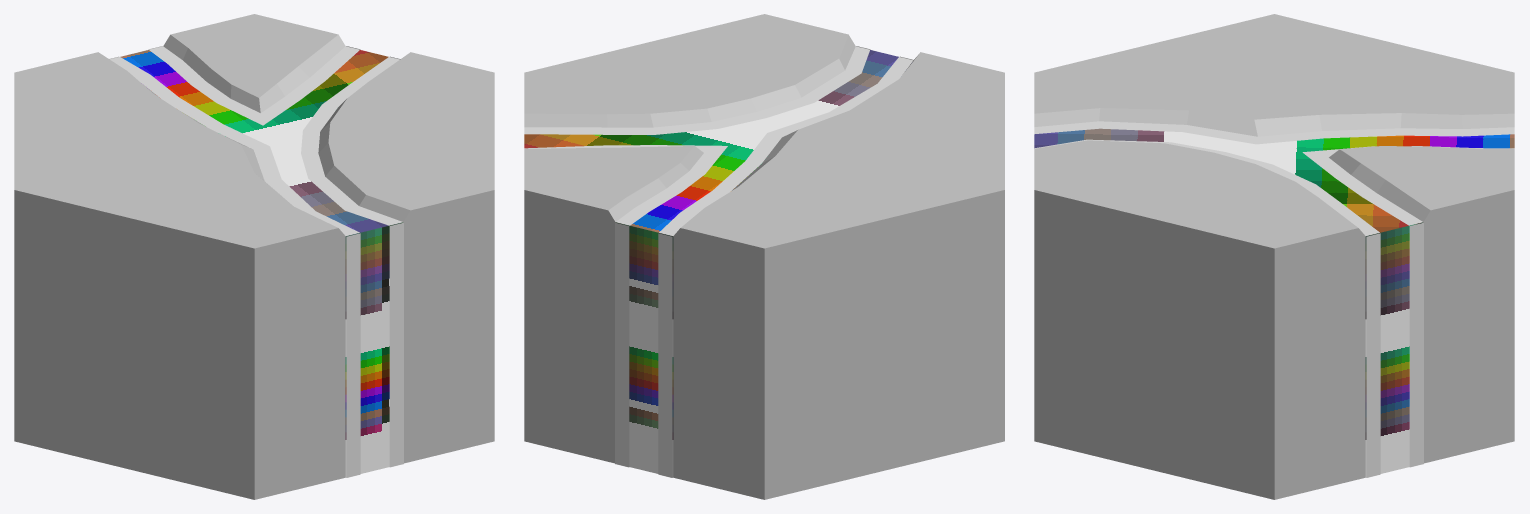
Rendered from Hexagon3_2.fbx.
3 renders of one model, left to right at view 1: azimuth 30°, elevation 25°; view 2: azimuth 150°, elevation 25°; view 3: azimuth 270°, elevation 25°, orthographic.
Parts seen in each view (by area): view 1: Hex3_2; view 2: Hex3_2; view 3: Hex3_2.
Boxes of the visible parts, <box> form: Hex3_2: <box>14,14,494,499</box>; Hex3_2: <box>524,14,1004,499</box>; Hex3_2: <box>1034,14,1514,499</box>.
Bounding box in the file's own units: 1000 × 500 × 870.
